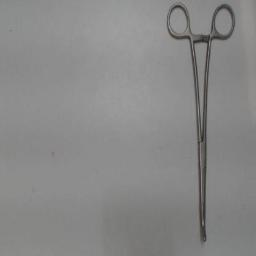Lahey Forceps: (164, 2, 238, 246)
